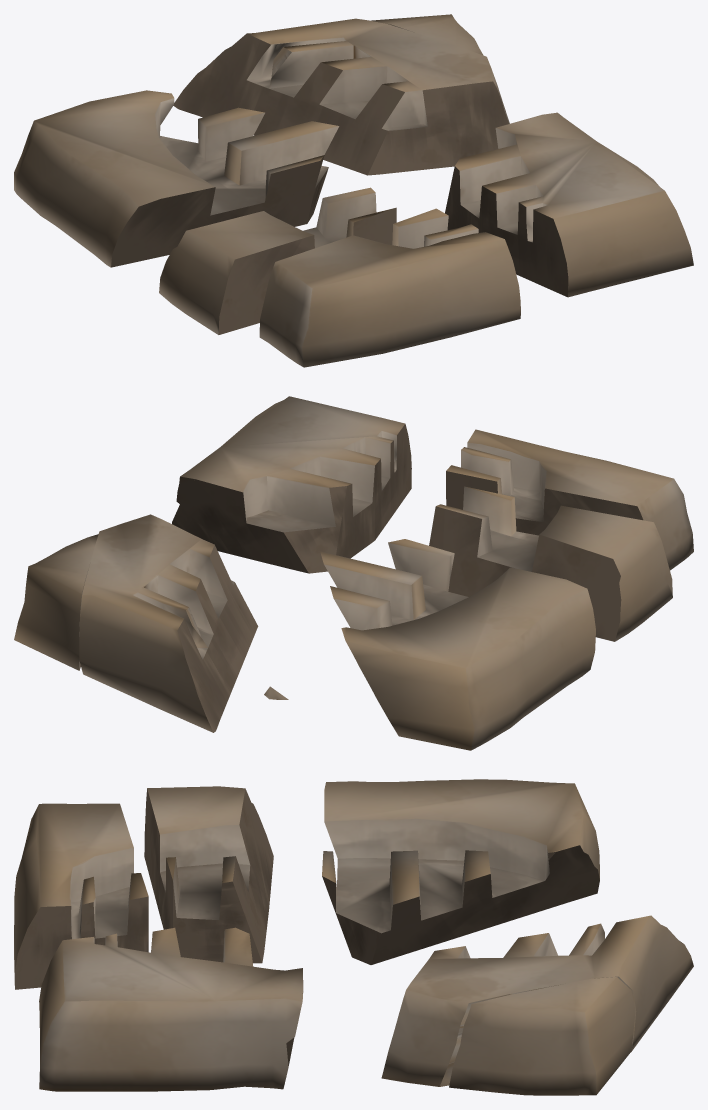
The model's file is SM_SHTRD_FacePlate.fbx.
3 views of the same model, one above another, from view 1: azimuth 30°, elevation 25°; view 2: azimuth 150°, elevation 25°; view 3: azimuth 270°, elevation 25° (orthographic). The views are drawn at different scales.
Visible parts, largest first — view 1: SM_Mold.001_cell.004; view 2: SM_Mold.001_cell.004; view 3: SM_Mold.001_cell.004.
Part boxes in pixels (<box>): SM_Mold.001_cell.004: <box>14,14,693,367</box>; SM_Mold.001_cell.004: <box>14,396,693,750</box>; SM_Mold.001_cell.004: <box>14,779,693,1095</box>.
Bounding box in the file's own units: 38.59 × 6.09 × 44.9.
